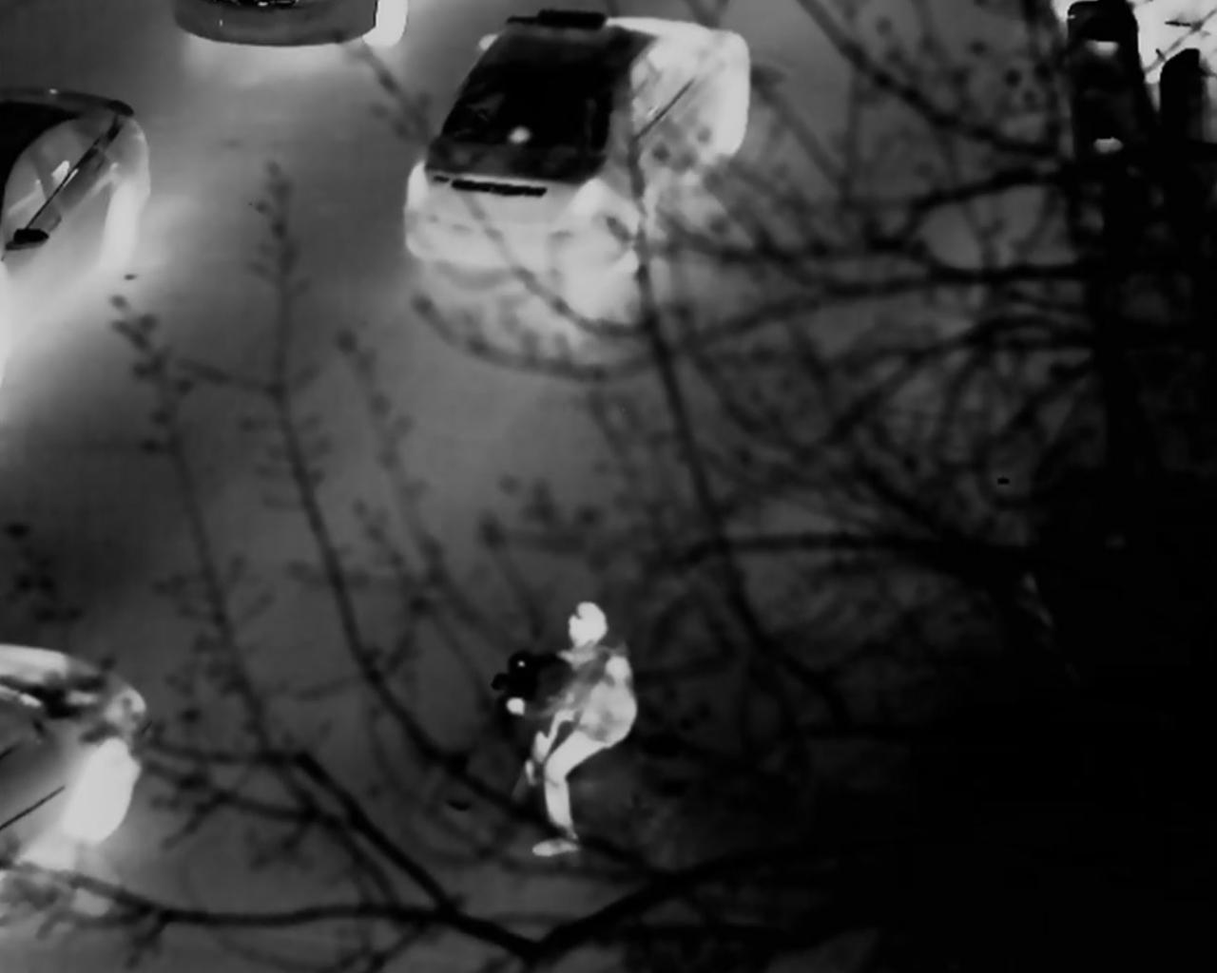person: (511, 598, 640, 856)
